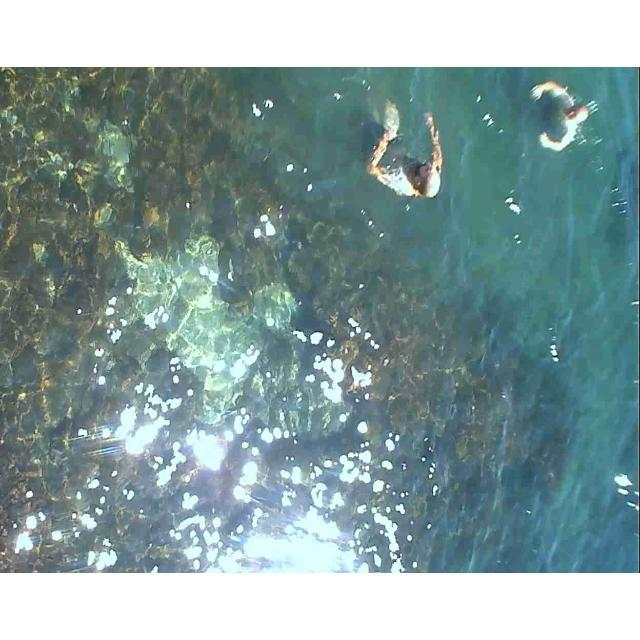human: (368, 99, 440, 207), (526, 69, 595, 164)
